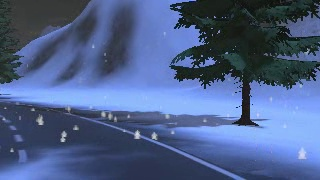Lane: (1, 100, 246, 179)
